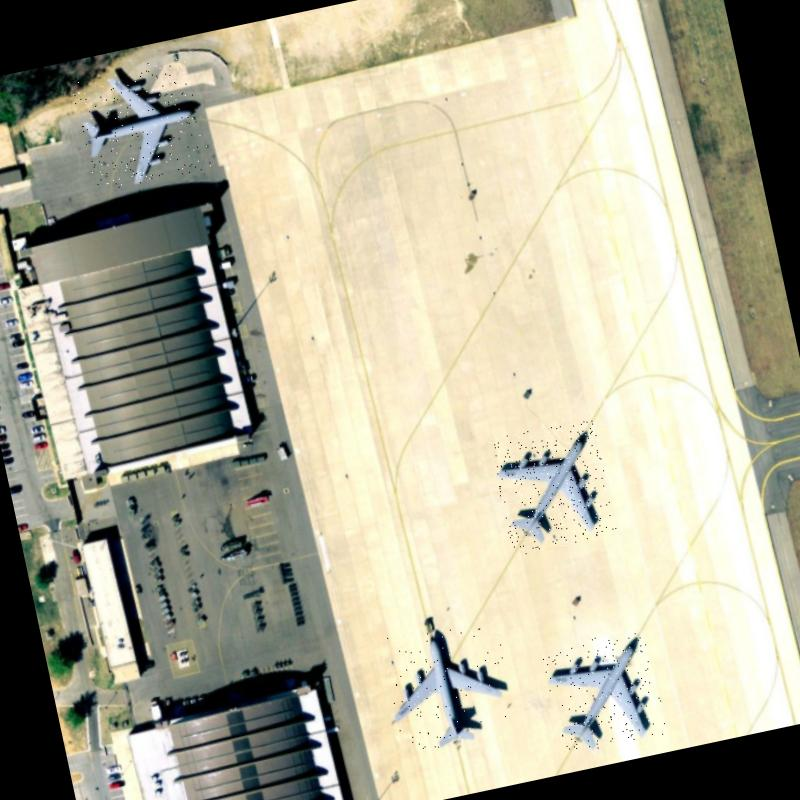A14: (378, 614, 520, 755), (70, 55, 211, 193), (488, 417, 618, 557), (541, 627, 668, 756)
